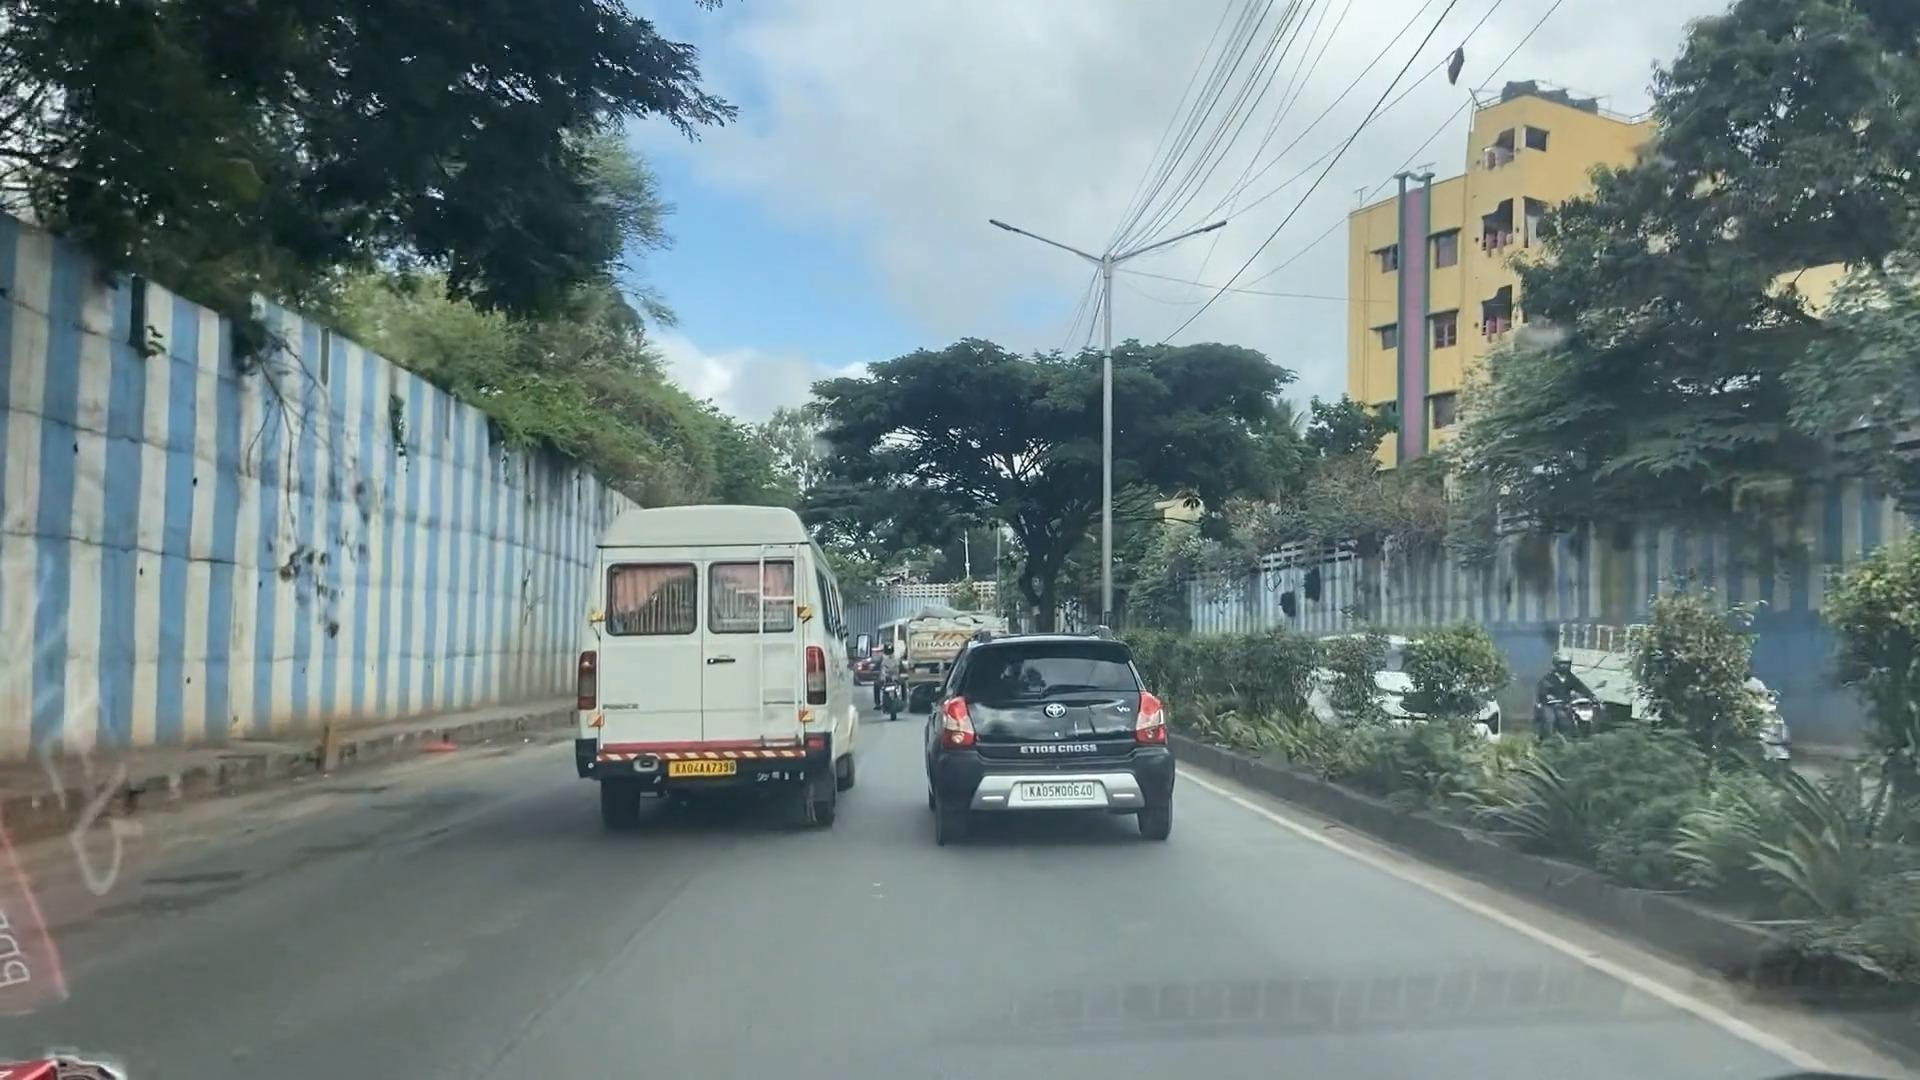HMV: (587, 513, 860, 818)
LMV: (955, 651, 1168, 824)
